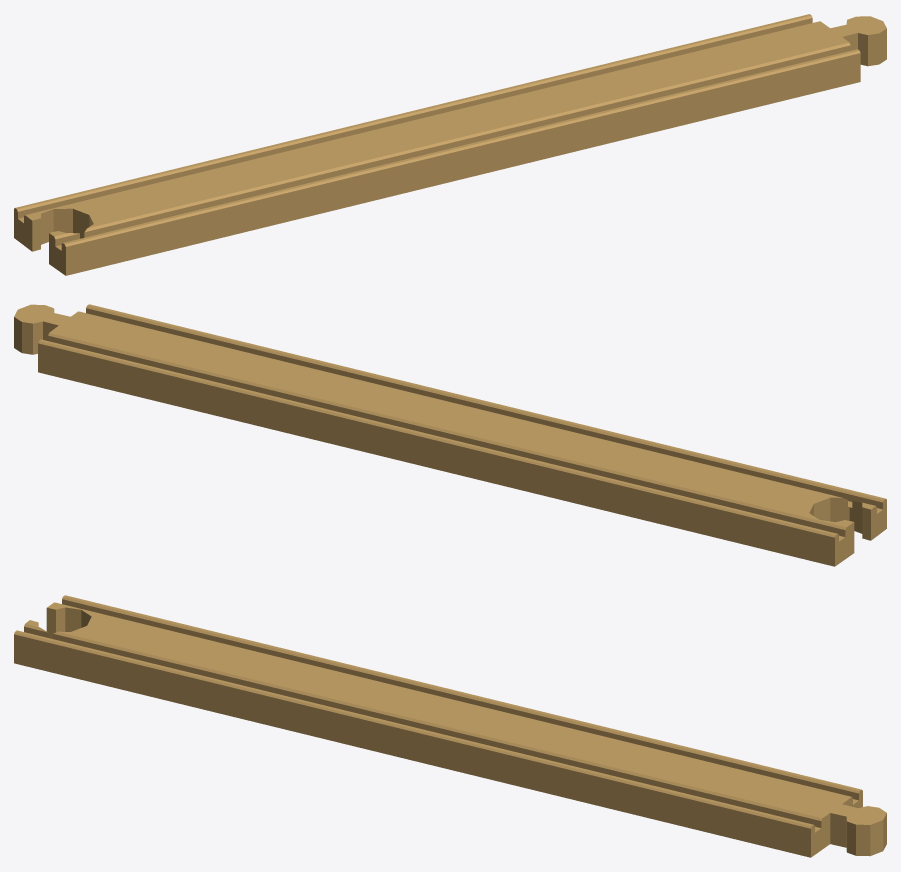
The model's file is train_track.fbx.
3 views of the same model, one above another, from view 1: azimuth 30°, elevation 25°; view 2: azimuth 150°, elevation 25°; view 3: azimuth 330°, elevation 25° (orthographic).
Parts seen in each view (by area): view 1: path.002; view 2: path.002; view 3: path.002.
Part boxes in pixels (x1,y1,x2,y2): path.002: [14, 14, 886, 275]; path.002: [14, 304, 886, 566]; path.002: [14, 595, 886, 857].
Bounding box in the file's own units: 2850 × 101 × 304.
